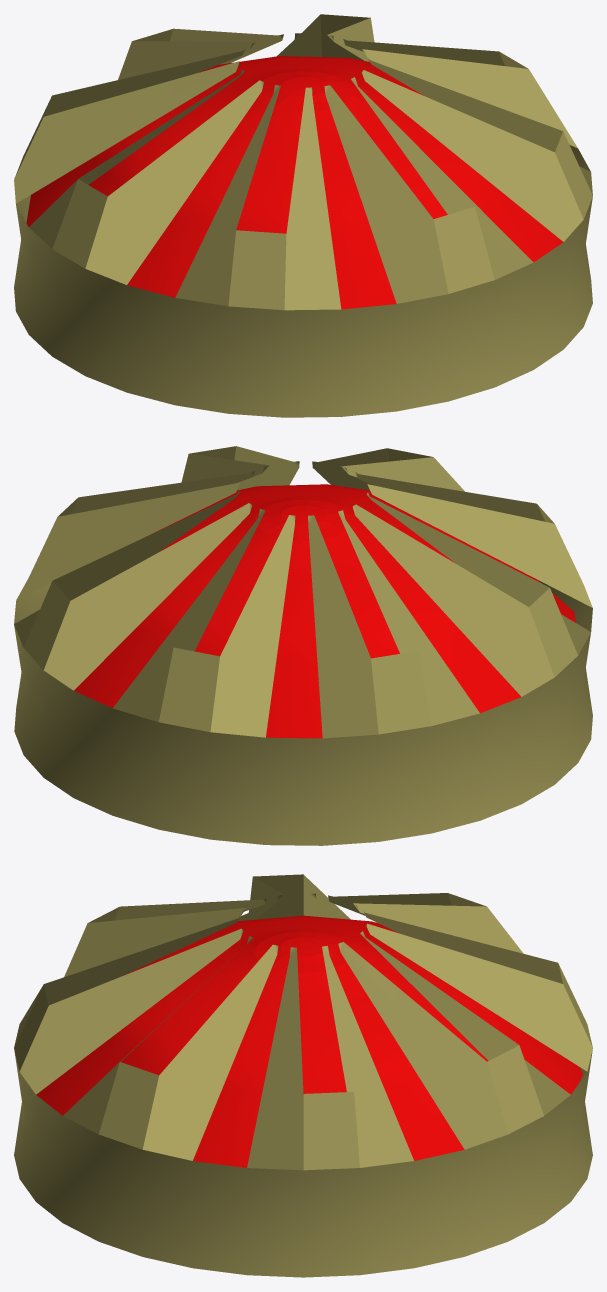
Rendered from Crown.fbx.
3 renders of one model, top to bottom at view 1: azimuth 30°, elevation 25°; view 2: azimuth 150°, elevation 25°; view 3: azimuth 270°, elevation 25°, orthographic.
Parts seen in each view (by area): view 1: Crown; view 2: Crown; view 3: Crown.
Part boxes in pixels (left/top/right/bottom): Crown: left=14, top=14, right=592, bottom=417; Crown: left=14, top=446, right=592, bottom=845; Crown: left=14, top=874, right=592, bottom=1277.
Size of the model in its own units: 42.34 by 18.93 by 42.34.
